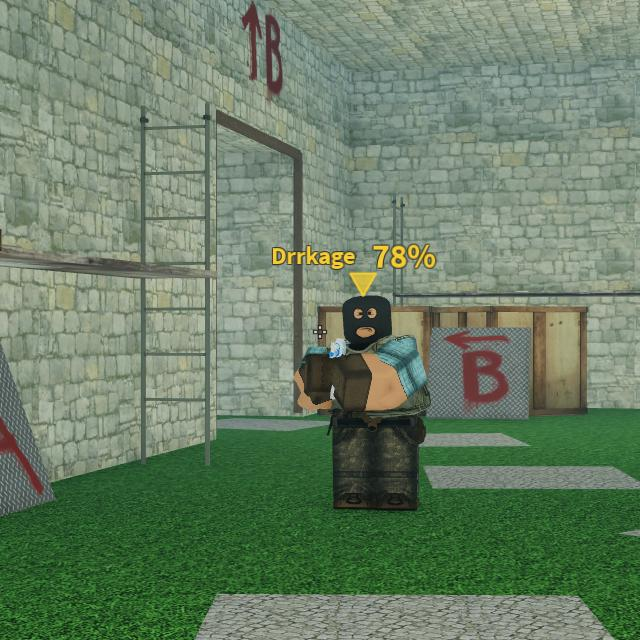Head: (342, 296, 392, 342)
Player: (296, 296, 430, 513)
